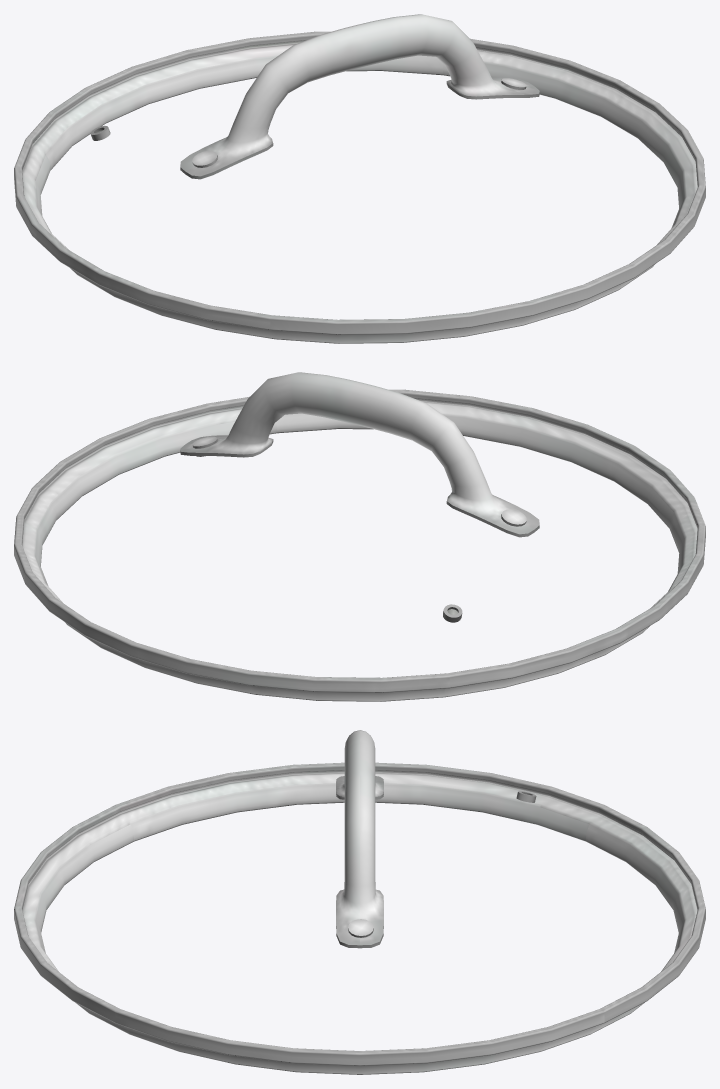
Rendered from steamer_lid.glb.
The picture shows the model from 3 angles, top to bottom: view 1: azimuth 30°, elevation 25°; view 2: azimuth 150°, elevation 25°; view 3: azimuth 270°, elevation 25°; orthographic projection.
Parts seen in each view (by area): view 1: PotLid_Pot_0; view 2: PotLid_Pot_0; view 3: PotLid_Pot_0.
Part boxes in pixels (x1,y1,x2,y2): PotLid_Pot_0: (14,14,705,343); PotLid_Pot_0: (14,372,705,701); PotLid_Pot_0: (14,730,705,1074).
Bounding box in the file's own units: 0.208 × 0.06 × 0.208.
Materials: 1 (1 with a texture image).
